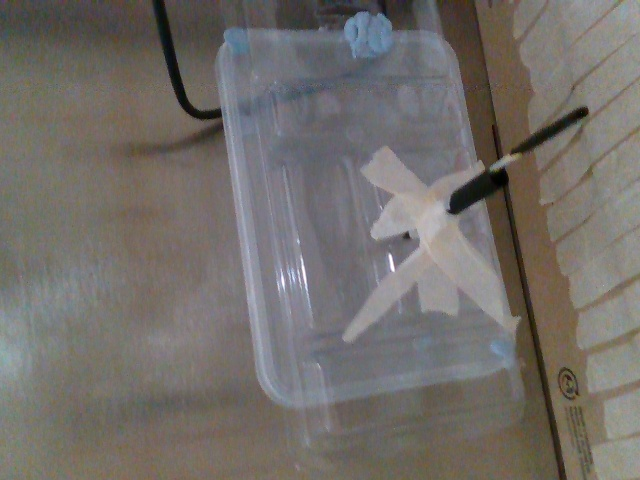test_strip: (488, 103, 586, 170)
